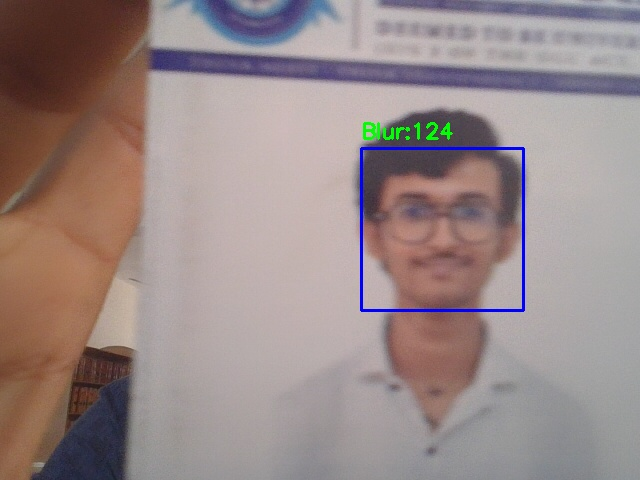fake: (361, 148, 523, 310)
